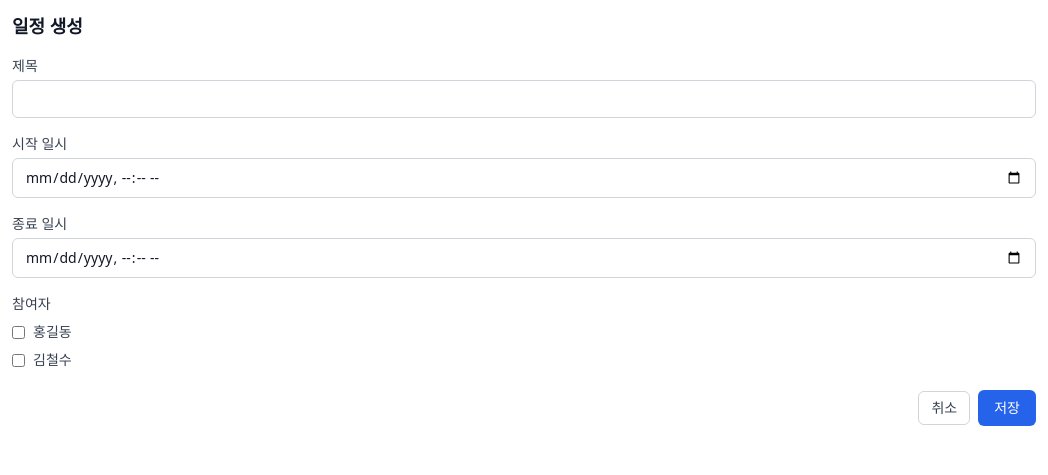
Test: ScheduleForm - 생성 모드 정상 제출 › createSchedule이 그 외 에러로 실패하면 일반 에러 메시지를 표시한다
Type "주간 회의" into the field labelled "제목" at (524, 99), box x1=12 y1=80 x2=1036 y2=118
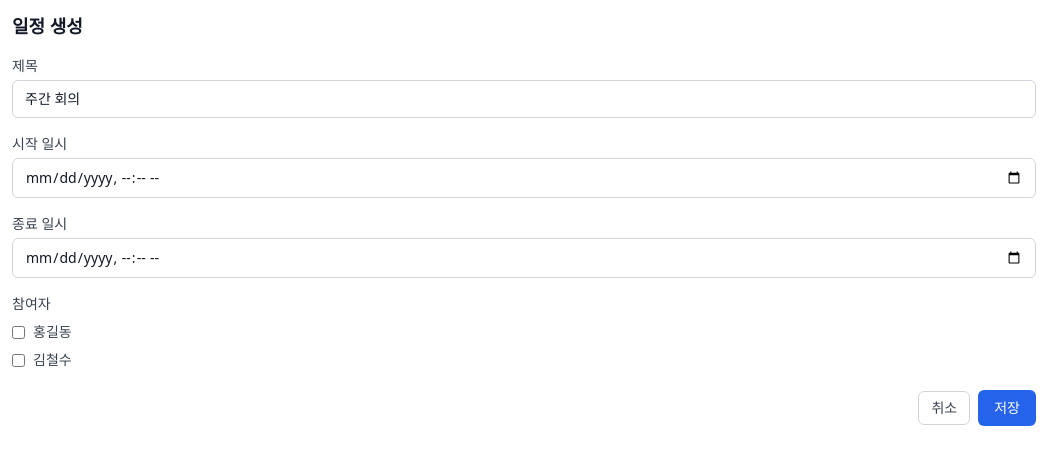
Type "2026-04-15T09:00" into the field labelled "시작 일시" at (524, 178), box x1=12 y1=158 x2=1036 y2=198
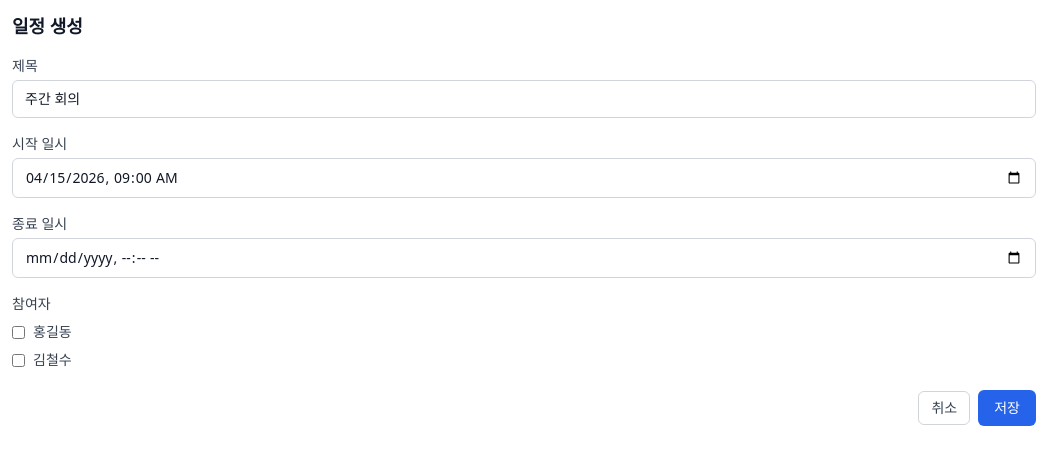
Type "2026-04-15T10:00" into the field labelled "종료 일시" at (524, 258), box x1=12 y1=238 x2=1036 y2=278
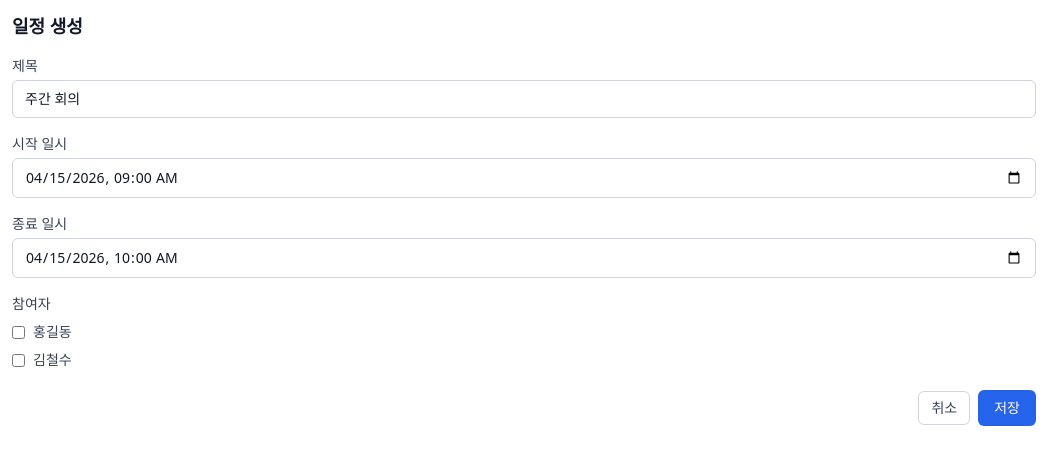
Submit the form
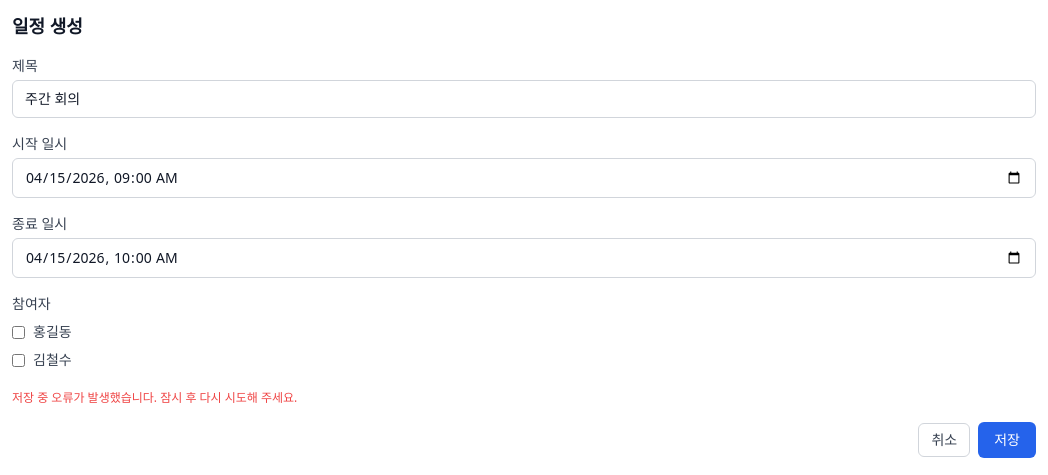
Now the text "저장 중 오류가 발생했습니다. 잠시 후 다시 시도해 주세요." is shown, box x1=12 y1=389 x2=297 y2=406
